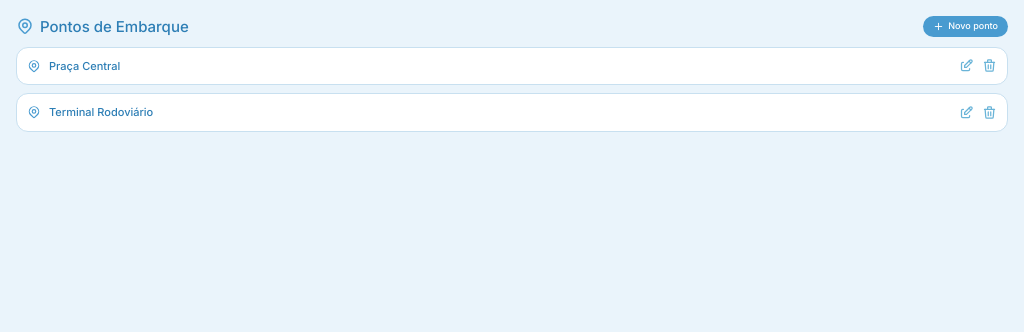
PontosPage — adicionar › exibe formulário ao clicar em "Novo ponto"
This screenshot has width=1024, height=332.
Click the button "Novo ponto" at (966,26), box [923,16,1008,37]
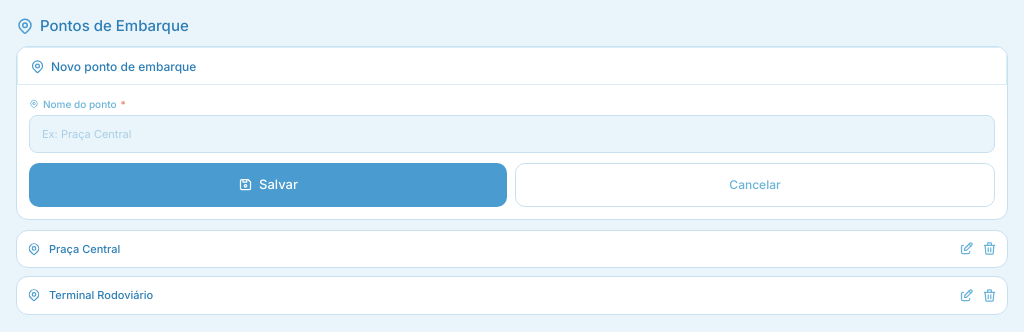
Expected: the form with test id "form-adicionar" is shown, [17,84,1007,218]
